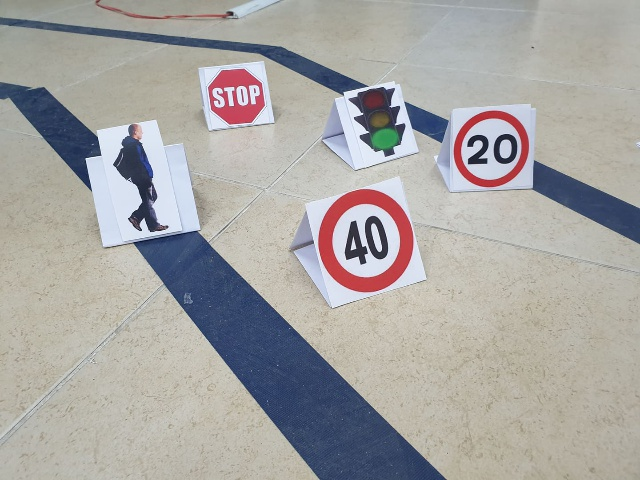Green: (347, 88, 408, 158)
Limit 20: (453, 108, 527, 188)
Limit 40: (310, 189, 414, 290)
Person: (98, 126, 173, 236)
Stop: (203, 66, 267, 125)
